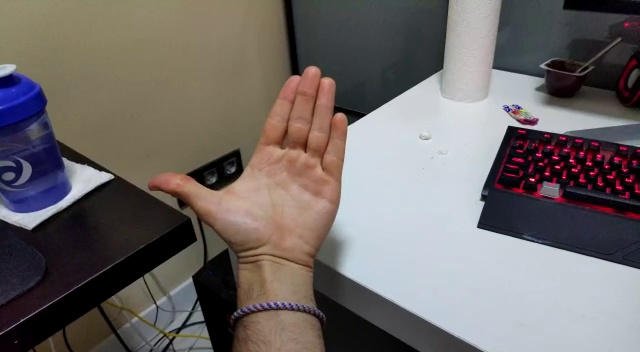Palm: (143, 62, 359, 260)
